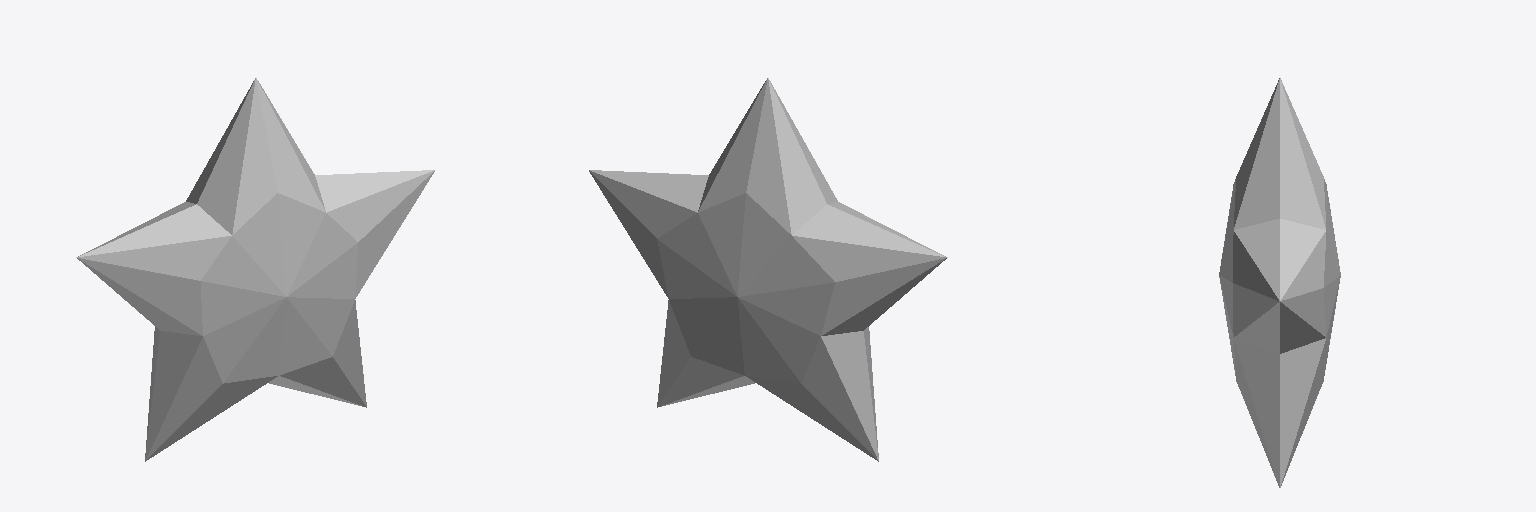
File: I_star.obj
The picture shows the model from 3 angles: view 1: azimuth 30°, elevation 25°; view 2: azimuth 150°, elevation 25°; view 3: azimuth 270°, elevation 25°; orthographic projection.
Size of the model in its own units: 15.74 by 14.97 by 4.62.